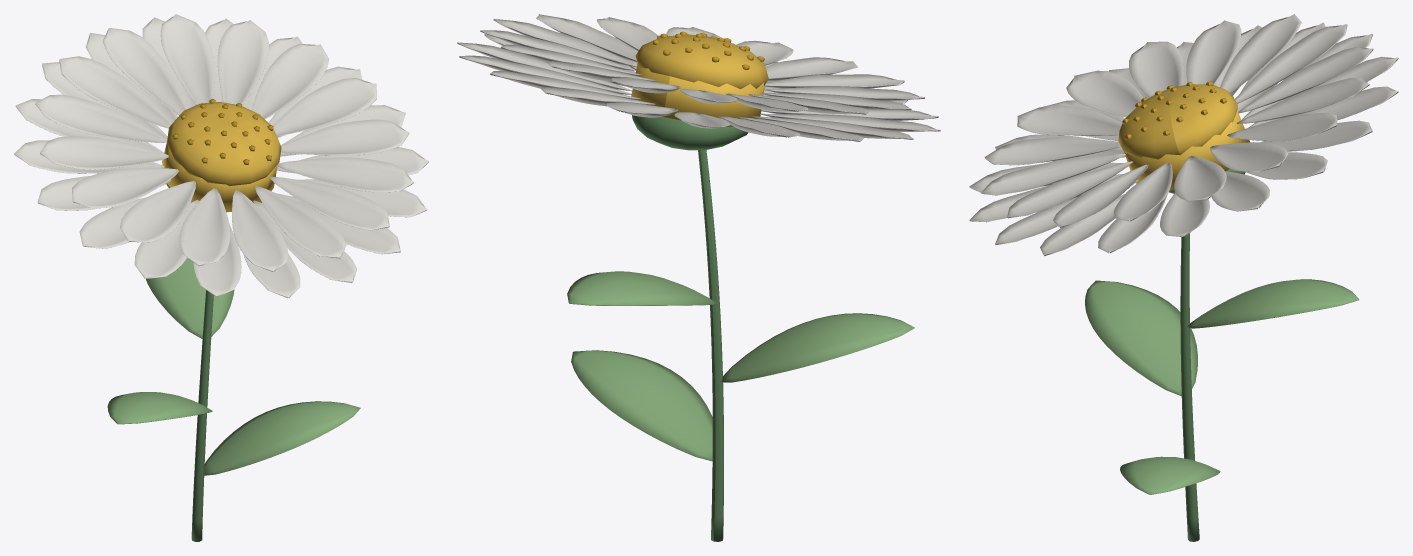
Rendered from daisy-rare-v2.glb.
3 renders of one model, left to right at view 1: azimuth 30°, elevation 25°; view 2: azimuth 150°, elevation 25°; view 3: azimuth 270°, elevation 25°, orthographic. The views are drawn at different scales.
Parts seen in each view (by area): view 1: daisy-rare-v2-petal, daisy-rare-v2-leaf, daisy-rare-v2-center, daisy-rare-v2-stem, daisy-rare-v2-pollen; view 2: daisy-rare-v2-petal, daisy-rare-v2-leaf, daisy-rare-v2-center, daisy-rare-v2-stem, daisy-rare-v2-pollen; view 3: daisy-rare-v2-petal, daisy-rare-v2-leaf, daisy-rare-v2-center, daisy-rare-v2-stem, daisy-rare-v2-pollen.
Part boxes in pixels (x1,y1,x2,y2): daisy-rare-v2-petal: (14, 14, 428, 298); daisy-rare-v2-leaf: (107, 258, 360, 475); daisy-rare-v2-center: (162, 102, 281, 212); daisy-rare-v2-stem: (166, 183, 213, 541); daisy-rare-v2-pollen: (172, 98, 273, 164); daisy-rare-v2-petal: (457, 14, 940, 141); daisy-rare-v2-leaf: (567, 271, 914, 461); daisy-rare-v2-center: (631, 34, 768, 126); daisy-rare-v2-stem: (632, 115, 748, 541); daisy-rare-v2-pollen: (652, 31, 764, 69); daisy-rare-v2-petal: (969, 14, 1398, 256); daisy-rare-v2-leaf: (1085, 279, 1359, 494); daisy-rare-v2-center: (1118, 84, 1249, 190); daisy-rare-v2-stem: (1169, 169, 1245, 541); daisy-rare-v2-pollen: (1122, 81, 1226, 139).
Size of the model in its own units: 1.31 by 1.54 by 1.23.
